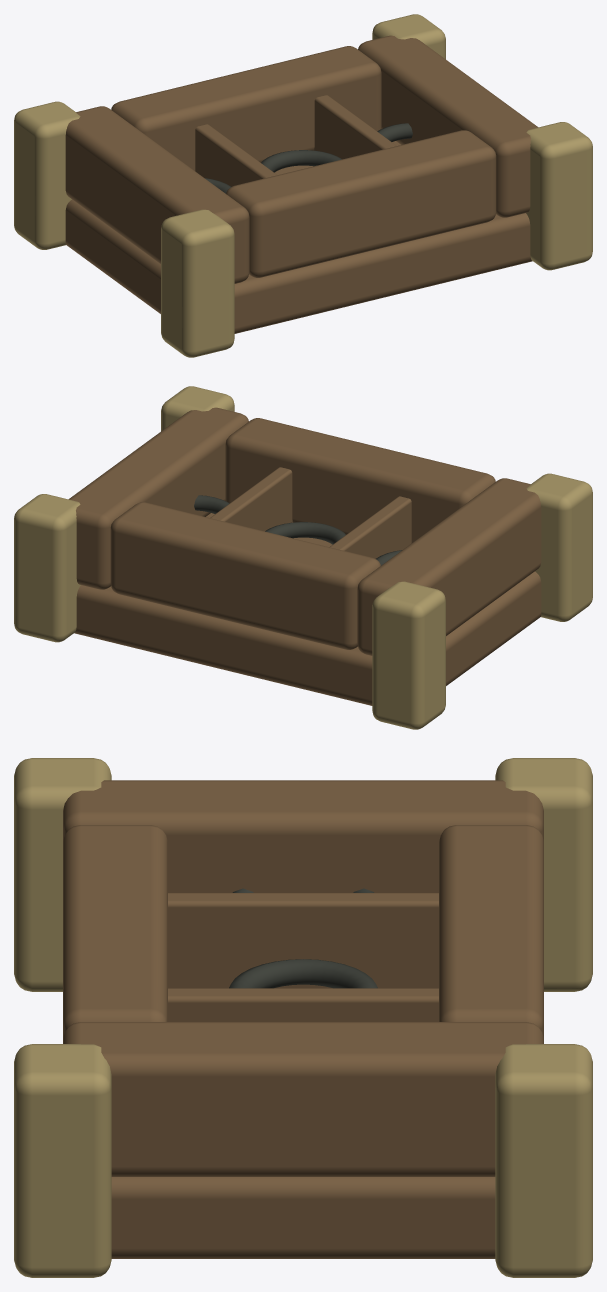
File: water-clock-garden-and-hydraulic-puzzles-seal-and-wash-0019f01e__31964.glb
3 renders of one model, top to bottom at view 1: azimuth 30°, elevation 25°; view 2: azimuth 150°, elevation 25°; view 3: azimuth 270°, elevation 25°, orthographic. The views are drawn at different scales.
Parts seen in each view (by area): view 1: seal-and-washer-sorting-case; view 2: seal-and-washer-sorting-case; view 3: seal-and-washer-sorting-case.
Boxes of the visible parts, bbox=[...] form: seal-and-washer-sorting-case: bbox=[14, 14, 592, 357]; seal-and-washer-sorting-case: bbox=[14, 386, 592, 729]; seal-and-washer-sorting-case: bbox=[14, 758, 592, 1277].
Bounding box in the file's own units: 0.515 × 0.1512 × 0.385.
